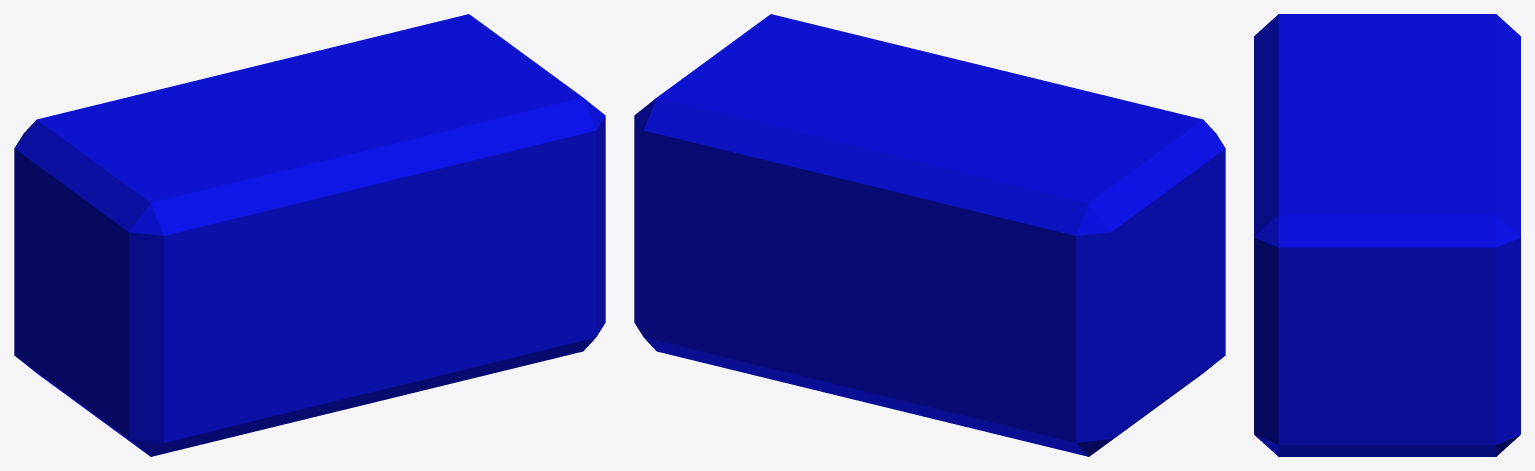
File: SM_Big_QuarryStone.fbx
The picture shows the model from 3 angles, left to right: view 1: azimuth 30°, elevation 25°; view 2: azimuth 150°, elevation 25°; view 3: azimuth 270°, elevation 25°; orthographic projection. The views are drawn at different scales.
Visible parts, largest first — view 1: SM_Big_QuarryStone; view 2: SM_Big_QuarryStone; view 3: SM_Big_QuarryStone.
Boxes of the visible parts, x1,y1,x2,y2 form: SM_Big_QuarryStone: (14, 14, 605, 456); SM_Big_QuarryStone: (634, 14, 1225, 456); SM_Big_QuarryStone: (1254, 14, 1520, 456).
Bounding box in the file's own units: 136 × 69.04 × 69.04.
